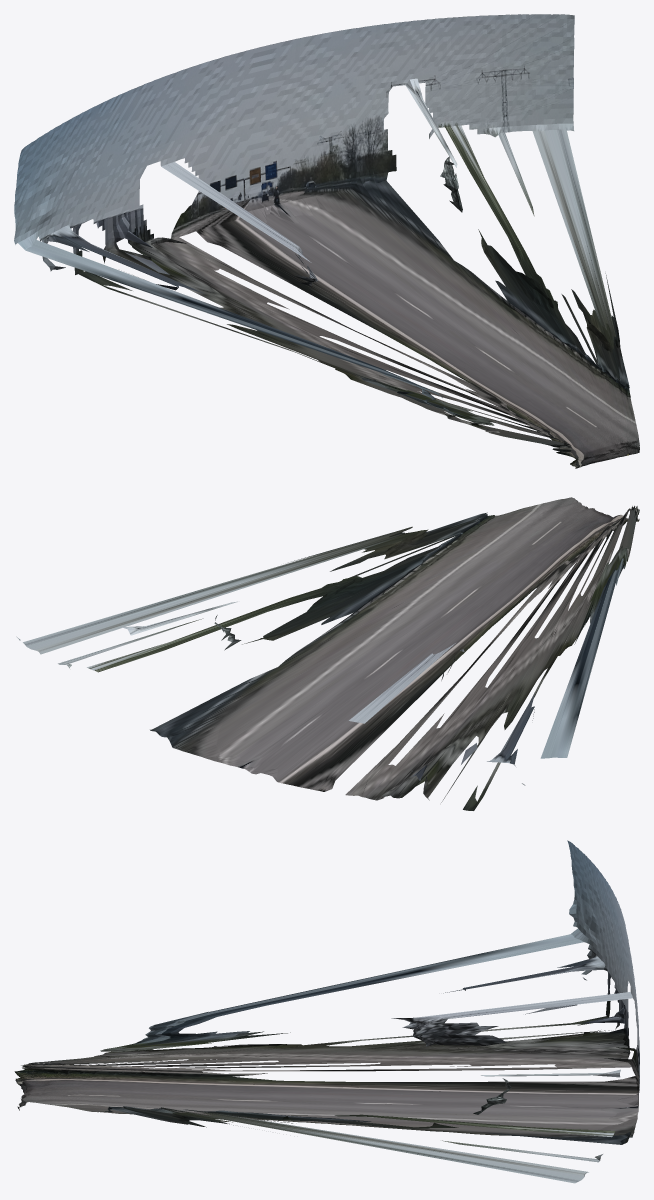
3 views of the same model, one above another, from view 1: azimuth 30°, elevation 25°; view 2: azimuth 150°, elevation 25°; view 3: azimuth 270°, elevation 25° (orthographic). The views are drawn at different scales.
Visible parts, largest first — view 1: defaultobject; view 2: defaultobject; view 3: defaultobject.
Boxes of the visible parts, x1,y1,x2,y2 form: defaultobject: [14, 14, 639, 468]; defaultobject: [16, 497, 639, 810]; defaultobject: [14, 840, 639, 1183].
Size of the model in its own units: 41.06 by 12.38 by 44.64.
1 material, 1 textured.
